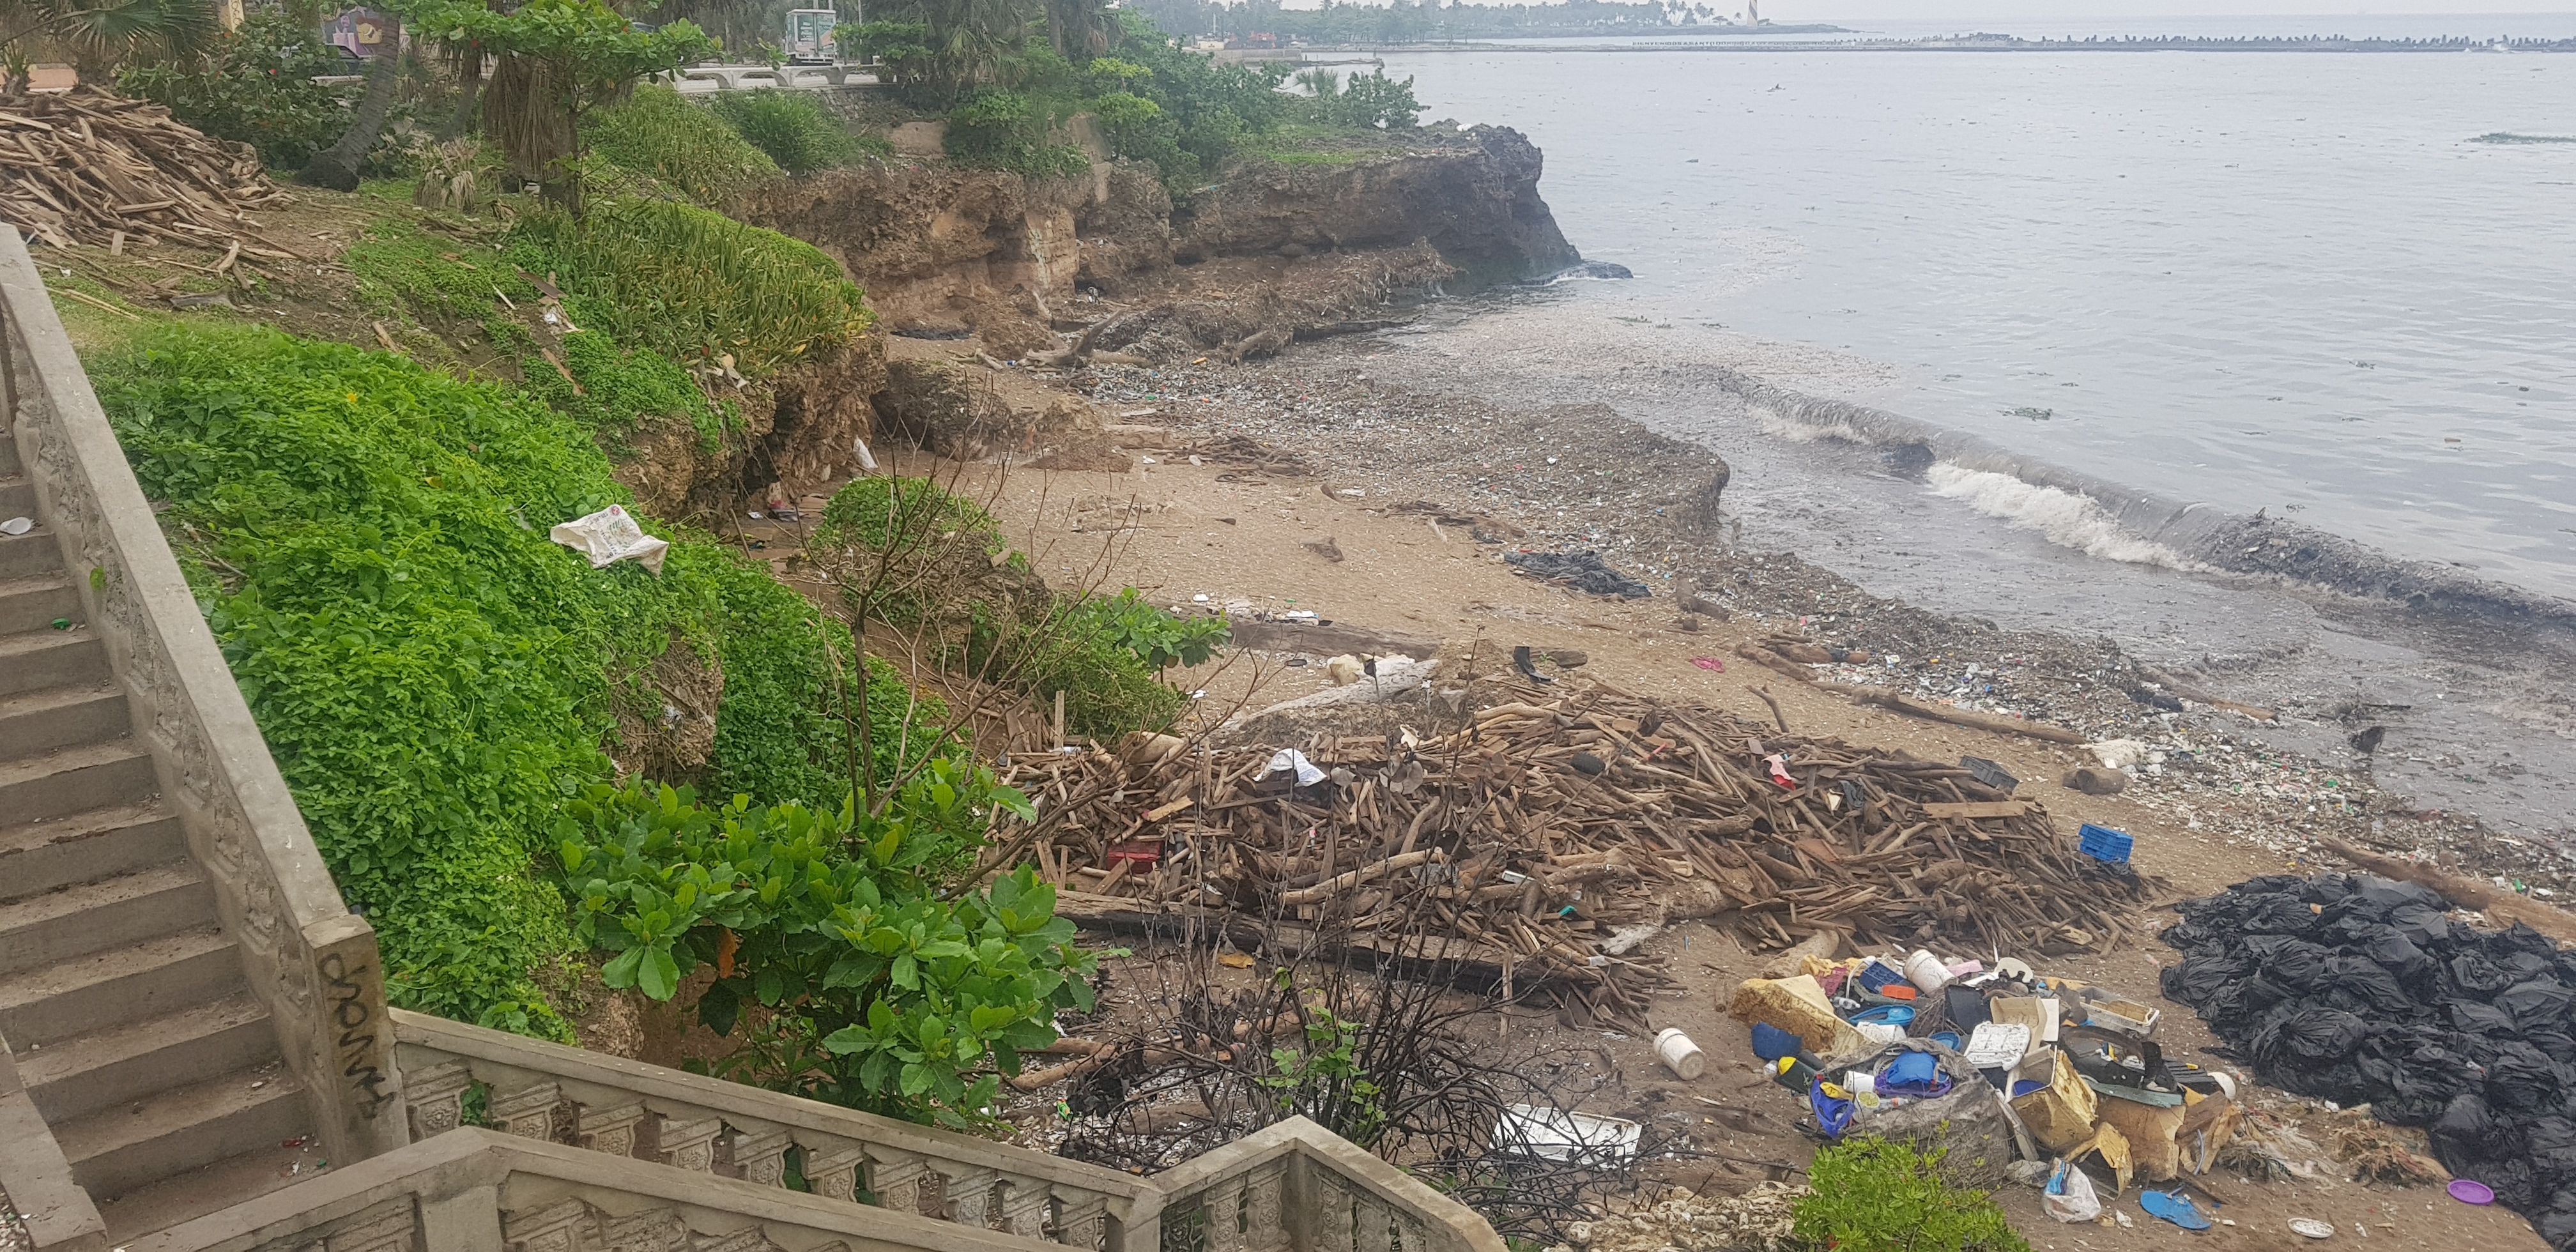trash: (882, 503, 2083, 1007), (1741, 868, 2326, 1234), (2185, 840, 2576, 1219)
